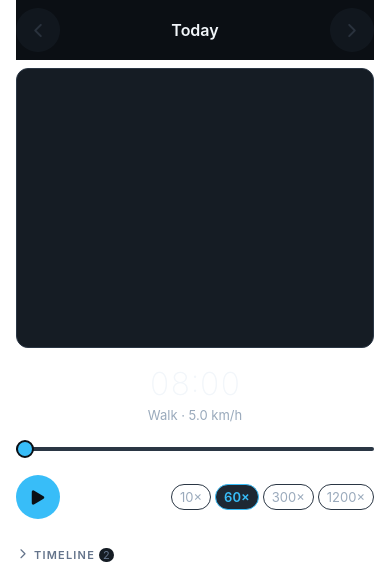
Test case: the player › holds still and says so once the day reaches a stop
The image size is (390, 579).
Click the button named "Play" at (38, 497), box x1=16 y1=475 x2=60 y2=519
Wait 20000 ms
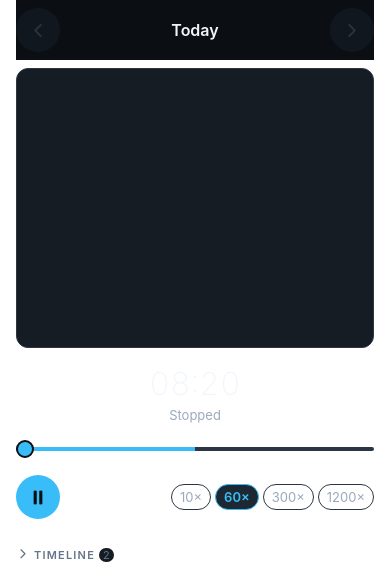
Now the text "Stopped" is shown, box x1=169 y1=407 x2=221 y2=423
